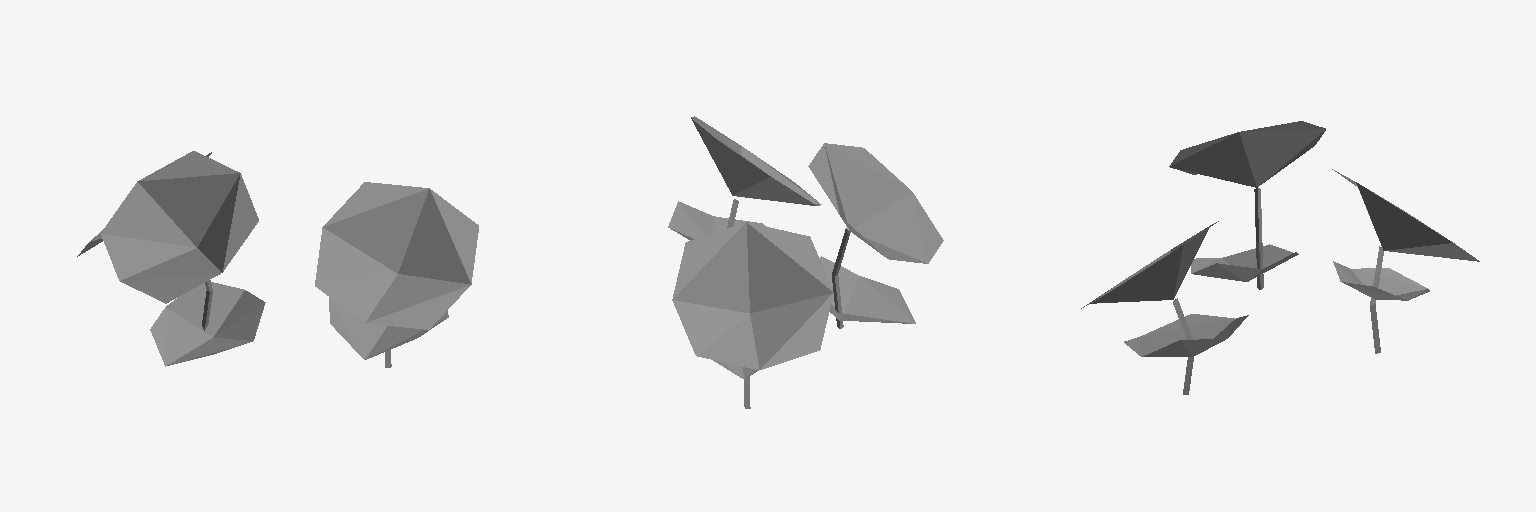
File: Flower1.obj
3 views of the same model, side by side, from view 1: azimuth 30°, elevation 25°; view 2: azimuth 150°, elevation 25°; view 3: azimuth 270°, elevation 25° (orthographic).
Parts seen in each view (by area): view 1: Plane050, Plane018, Plane138, Plane139; view 2: Plane019, Plane018, Plane050, Plane138, Plane139, Cylinder113; view 3: Plane018, Plane019, Plane050, Plane139, Plane138, Plane137, Cylinder113, Cylinder115.
Boxes of the visible parts, box(x1,y1,x2,y2) form: Plane050: box(315, 182, 478, 329); Plane018: box(101, 151, 258, 303); Plane138: box(150, 282, 265, 366); Plane139: box(329, 297, 448, 359); Plane019: box(672, 222, 833, 369); Plane018: box(808, 143, 943, 263); Plane050: box(691, 116, 821, 205); Plane138: box(819, 256, 915, 323); Plane139: box(668, 201, 766, 240); Cylinder113: box(832, 228, 850, 328); Plane018: box(1169, 121, 1325, 187); Plane019: box(1332, 169, 1479, 261); Plane050: box(1081, 221, 1218, 308); Plane139: box(1124, 314, 1248, 356); Plane138: box(1191, 244, 1298, 281); Plane137: box(1333, 261, 1429, 300); Cylinder113: box(1254, 187, 1263, 289); Cylinder115: box(1370, 246, 1383, 353).
Size of the model in its own units: 0.5097 by 0.3615 by 0.5975.